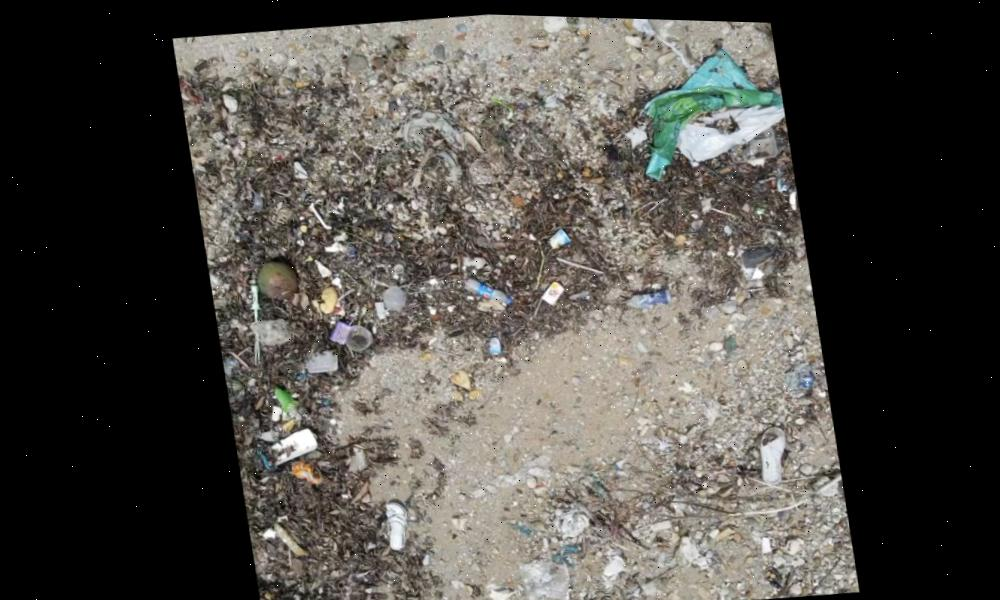carton: (534, 274, 567, 299), (321, 316, 350, 341)
plastic bag: (625, 39, 784, 176), (660, 92, 791, 167)
plastic bottle: (459, 272, 508, 303), (620, 281, 670, 307)
plastic container: (376, 276, 412, 313)
